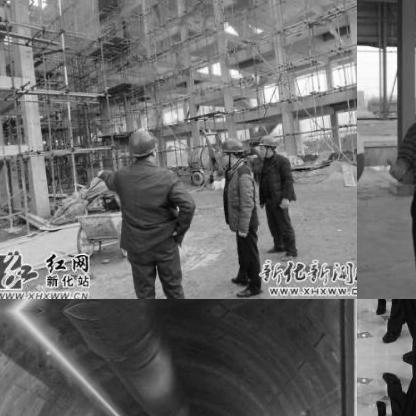Helmet: (124, 126, 160, 166), (216, 136, 245, 168), (253, 134, 277, 154)
